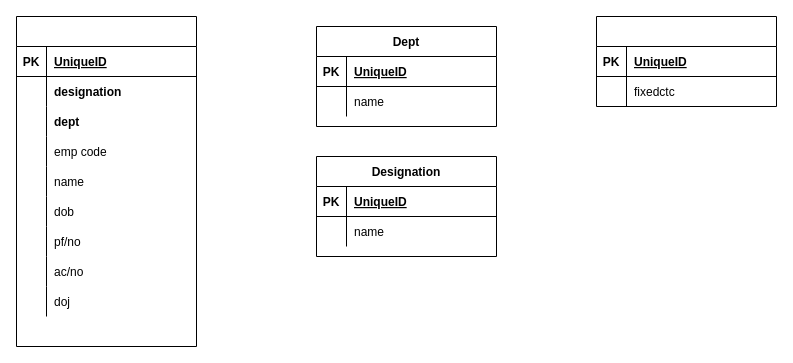
This 793x363 diagram has some shape labels left out. The shapes that lost their labels are listed below. From the top down, each one's box as (x1, y1, x2, y2) in pixels, then its label:
(596, 16, 776, 106): Salary
(16, 16, 196, 346): Employee
